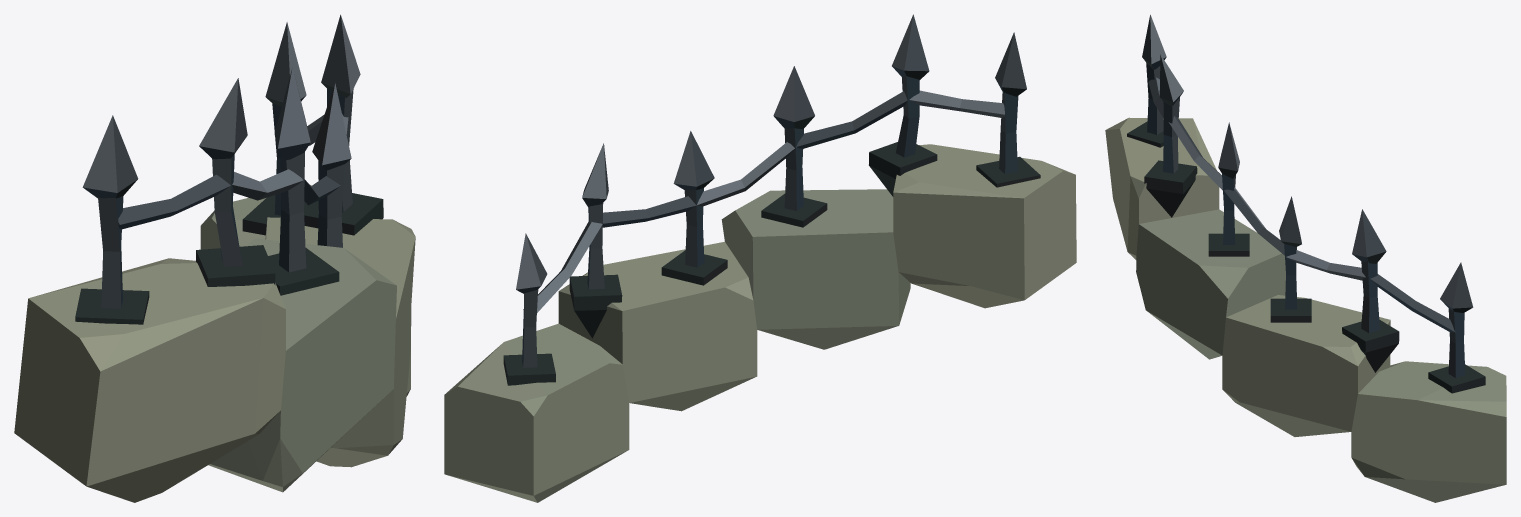
The model's file is stair_spiral_railing_low_clock_metal_spikes.fbx.
3 views of the same model, side by side, from view 1: azimuth 30°, elevation 25°; view 2: azimuth 150°, elevation 25°; view 3: azimuth 270°, elevation 25° (orthographic). The views are drawn at different scales.
Visible parts, largest first — view 1: stair_spiral_railing_low_clock_metal_spikes; view 2: stair_spiral_railing_low_clock_metal_spikes; view 3: stair_spiral_railing_low_clock_metal_spikes.
Part boxes in pixels (bbox=[...]): stair_spiral_railing_low_clock_metal_spikes: bbox=[14, 14, 415, 502]; stair_spiral_railing_low_clock_metal_spikes: bbox=[444, 14, 1076, 502]; stair_spiral_railing_low_clock_metal_spikes: bbox=[1105, 14, 1506, 502].
Size of the model in its own units: 225 by 227 by 229.
